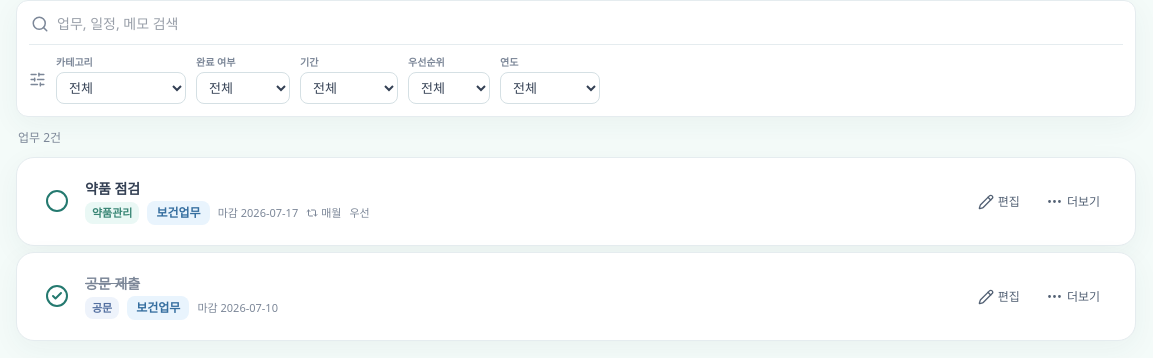
Scenario: TaskWorkspace › combines filters and resets them without a page navigation
The image size is (1153, 358).
Select "약품관리" in the dropdown labelled "카테고리" at (121,88), box [56,72,186,104]
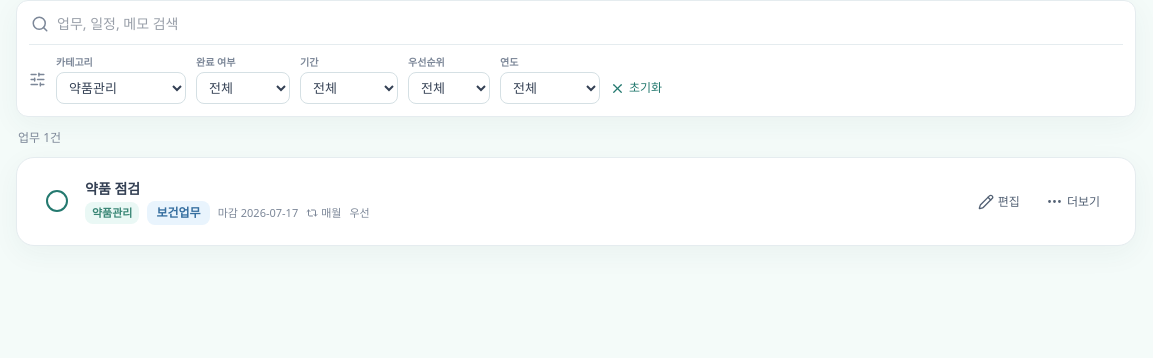
Select "미완료" in the dropdown labelled "완료 여부" at (243,88), box [196,72,290,104]
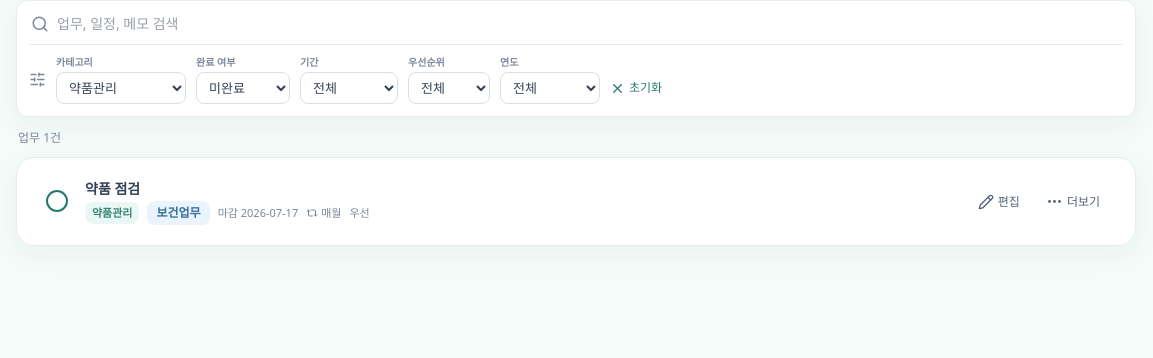
Select "오늘" in the dropdown labelled "기간" at (349,88), box [300,72,398,104]
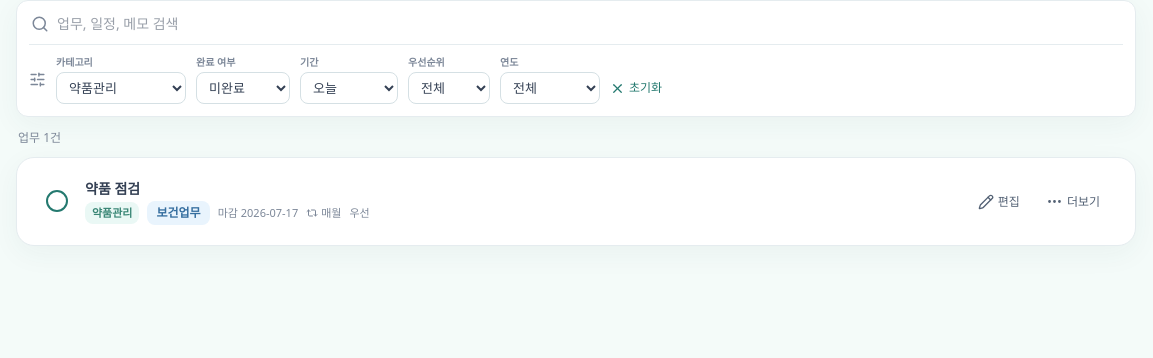
Select "높음" in the dropdown labelled "우선순위" at (449,88), box [408,72,490,104]
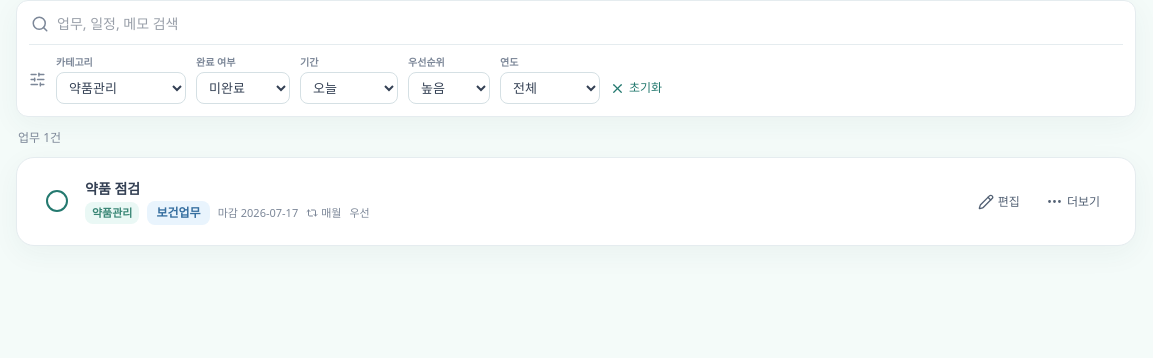
Expected: the text "약품 점검" is shown, [85,179,140,198]
Expected: the text "업무 1건" is shown, [18,129,61,147]
Click the button "초기화" at (636,88), box [610,72,662,104]
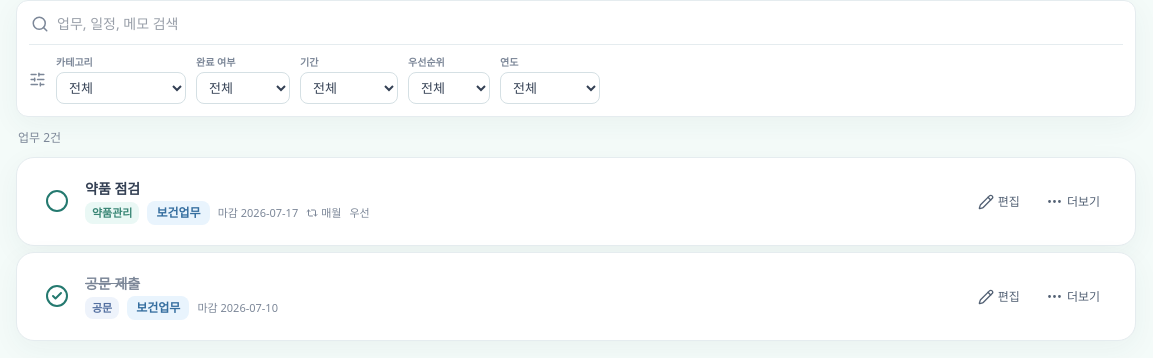
Expected: the text "공문 제출" is shown, [85,274,140,293]
Expected: the text "업무 2건" is shown, [18,129,61,147]
